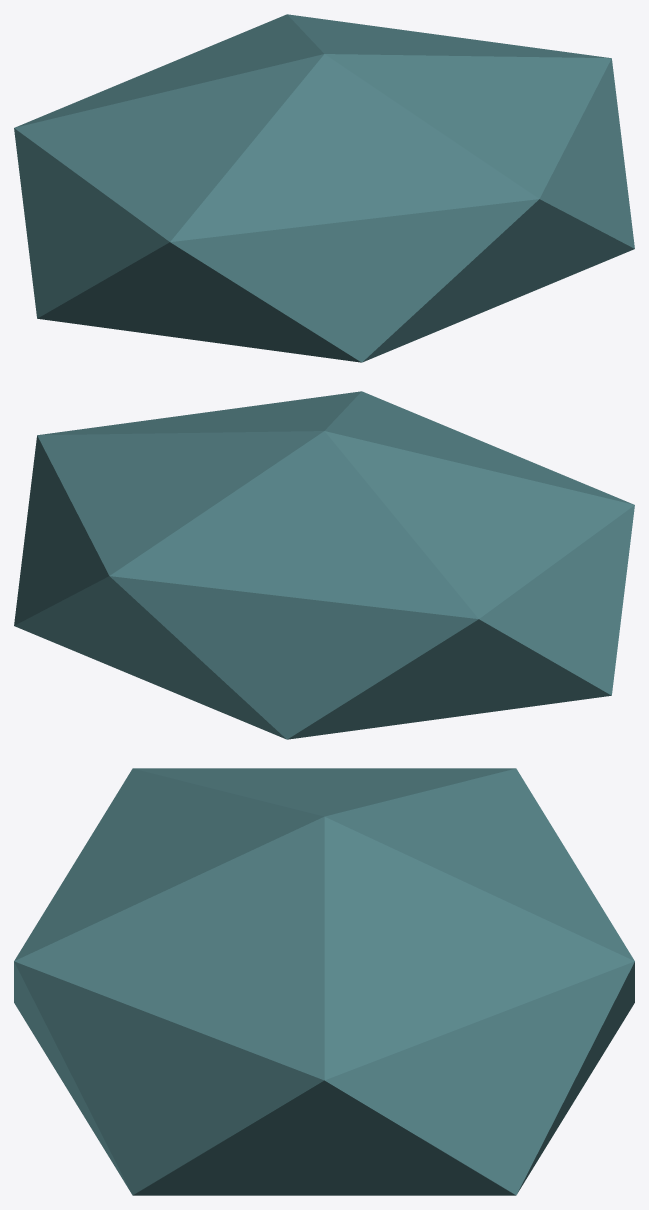
Rendered from rock_coastal.glb.
3 renders of one model, top to bottom at view 1: azimuth 30°, elevation 25°; view 2: azimuth 150°, elevation 25°; view 3: azimuth 270°, elevation 25°, orthographic. The views are drawn at different scales.
Visible parts, largest first — view 1: rock_coastal__rock; view 2: rock_coastal__rock; view 3: rock_coastal__rock.
Part boxes in pixels (<box>): rock_coastal__rock: <box>14,14,634,362</box>; rock_coastal__rock: <box>14,391,634,739</box>; rock_coastal__rock: <box>14,768,634,1195</box>.
Bounding box in the file's own units: 8.94 × 4 × 6.81.
